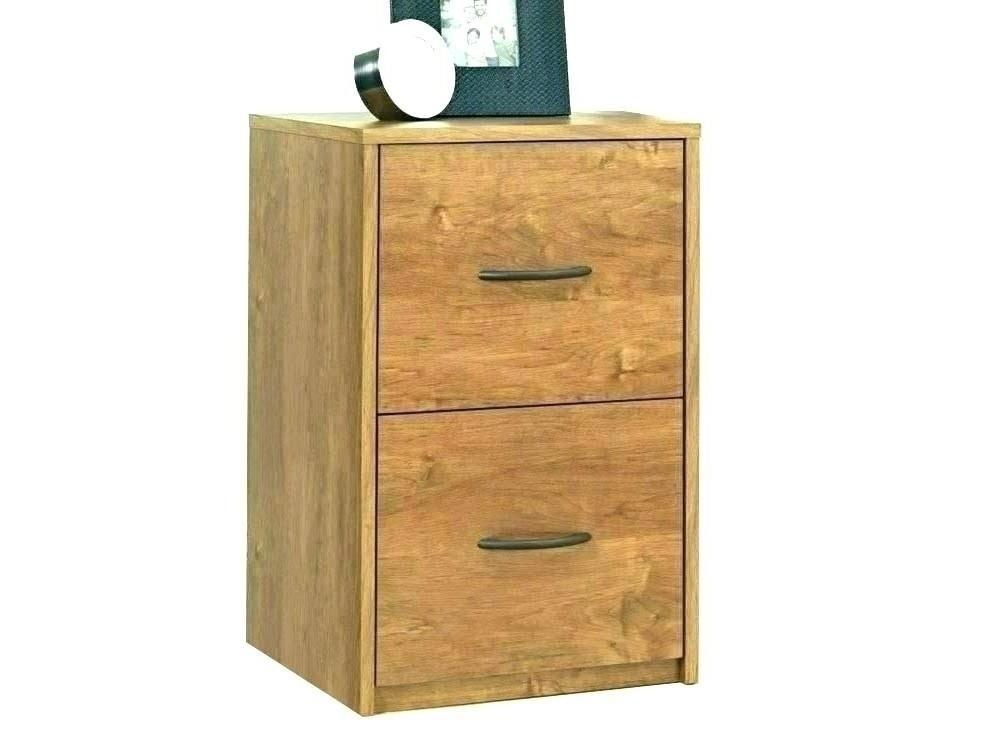cabinet_door: (371, 402, 681, 694), (376, 140, 679, 403)
handle: (475, 520, 600, 563), (476, 256, 597, 292)
